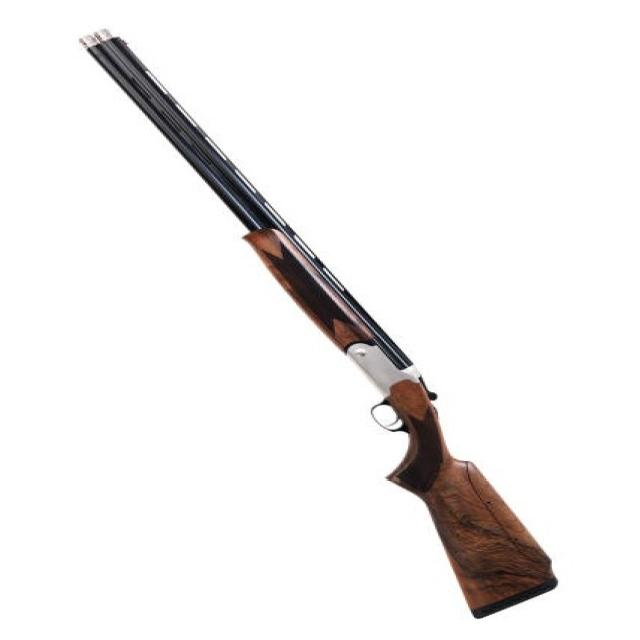rifle: (72, 21, 580, 637)
